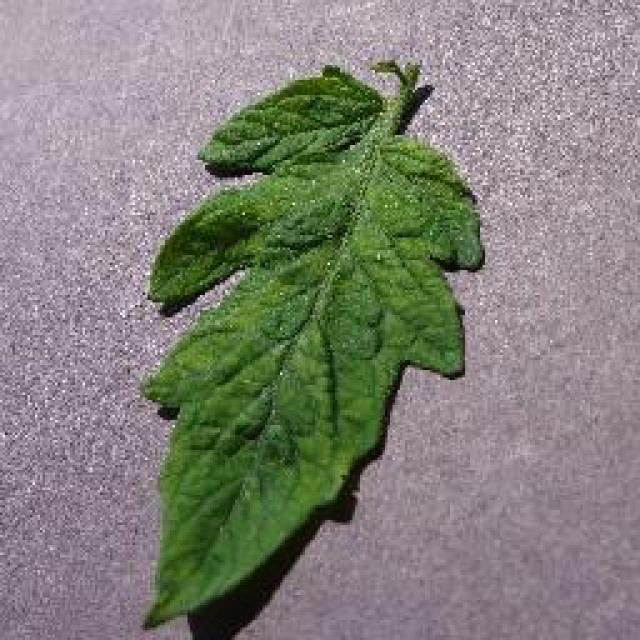Tomato___Tomato_mosaic_virus: (145, 60, 480, 625)
